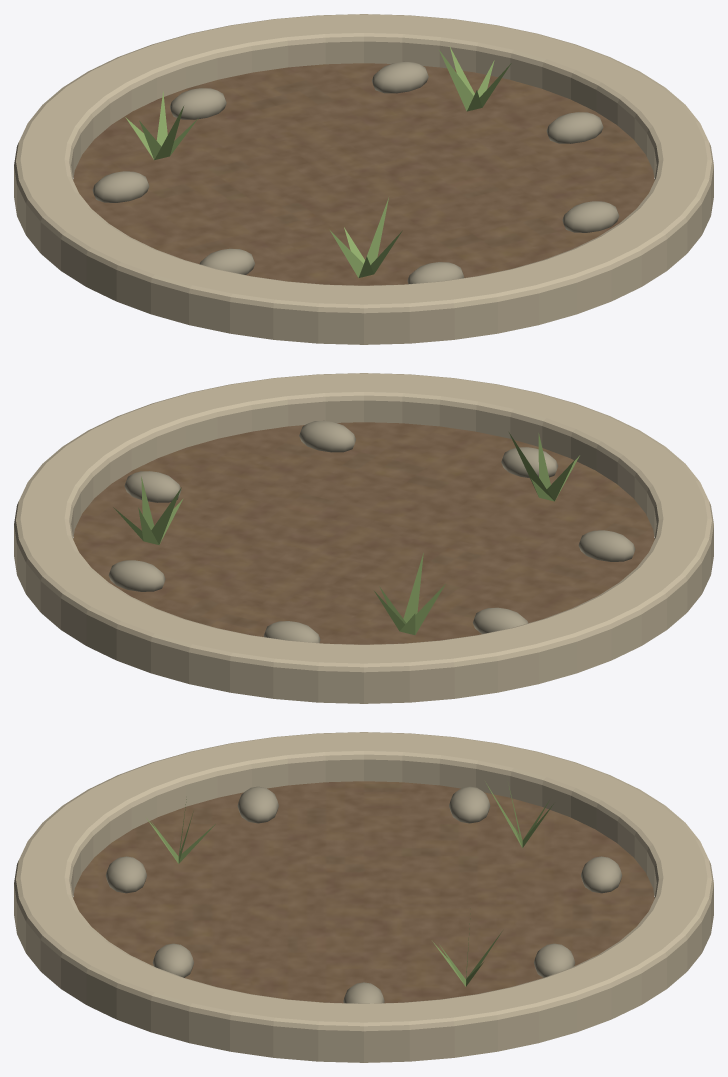
File: treebed.glb
3 views of the same model, one above another, from view 1: azimuth 30°, elevation 25°; view 2: azimuth 150°, elevation 25°; view 3: azimuth 270°, elevation 25° (orthographic).
Parts seen in each view (by area): view 1: Continuous sandstone tree ring, Recessed textured mulch, River pebble.001, River pebble.006, River pebble, River pebble.003, River pebble.002, River pebble.004, River pebble.005; view 2: Continuous sandstone tree ring, Recessed textured mulch, River pebble.001, River pebble.006, River pebble.004, River pebble, River pebble.005, River pebble.003, River pebble.002; view 3: Recessed textured mulch, Continuous sandstone tree ring, River pebble.003, River pebble.004, River pebble.002, River pebble.005, River pebble.001, River pebble.006, River pebble.
Boxes of the visible parts, box(x1,y1,x2,y2) form: Continuous sandstone tree ring: box(14, 14, 713, 344); Recessed textured mulch: box(73, 63, 654, 285); River pebble.001: box(372, 61, 428, 93); River pebble.006: box(562, 201, 619, 232); River pebble: box(546, 112, 603, 143); River pebble.003: box(92, 171, 149, 202); River pebble.002: box(170, 88, 226, 119); River pebble.004: box(199, 248, 254, 274); River pebble.005: box(407, 262, 464, 284); Continuous sandstone tree ring: box(14, 373, 713, 703); Recessed textured mulch: box(73, 422, 654, 644); River pebble.001: box(108, 560, 165, 591); River pebble.006: box(299, 420, 355, 452); River pebble.004: box(578, 530, 635, 561); River pebble: box(124, 471, 181, 502); River pebble.005: box(501, 447, 557, 478); River pebble.003: box(473, 607, 528, 633); River pebble.002: box(263, 621, 320, 643); Recessed textured mulch: box(73, 781, 654, 1003); Continuous sandstone tree ring: box(14, 732, 713, 1062); River pebble.003: box(449, 786, 490, 823); River pebble.004: box(237, 786, 278, 823); River pebble.002: box(581, 856, 622, 893); River pebble.005: box(105, 856, 146, 893); River pebble.001: box(534, 943, 575, 977); River pebble.006: box(152, 943, 193, 977); River pebble: box(343, 982, 384, 1003).
Bounding box in the file's own units: 2.7 × 0.33 × 2.7.
Materials: 4 (1 with a texture image).
